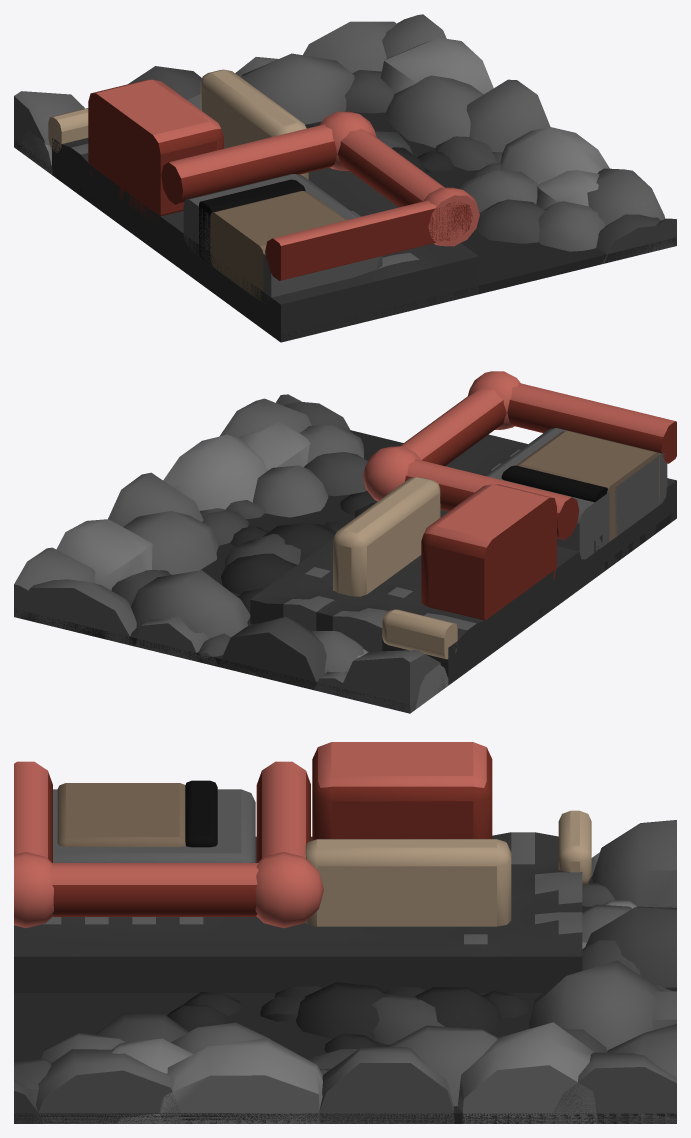
File: red_works_tr.glb
3 views of the same model, one above another, from view 1: azimuth 30°, elevation 25°; view 2: azimuth 150°, elevation 25°; view 3: azimuth 270°, elevation 25° (orthographic). The views are drawn at different scales.
Parts seen in each view (by area): view 1: deck, red_mid, pipe_low, rocks_base, pipe_mid, recess_floor, rocks_12, tan_rod, rocks_5, pipe_right, recess_frame, rocks_0 (+20 smaller); view 2: deck, red_mid, tan_rod, pipe_low, recess_frame, rocks_71, rocks_12, rocks_0, rocks_base, recess_floor, rocks_52, rocks_32 (+27 smaller); view 3: deck, red_mid, tan_rod, rocks_base, rocks_0, pipe_right, rocks_10, rocks_31, rocks_35, recess_floor, rocks_12, rocks_16 (+29 smaller).
Part boxes in pixels (x1=…): deck: x1=52, y1=94, x2=478, y2=342; red_mid: x1=88, y1=79, x2=223, y2=219; pipe_low: x1=265, y1=200, x2=460, y2=280; rocks_base: x1=14, y1=111, x2=676, y2=340; pipe_mid: x1=161, y1=124, x2=336, y2=204; recess_floor: x1=210, y1=191, x2=346, y2=300; rocks_12: x1=241, y1=53, x2=354, y2=124; tan_rod: x1=200, y1=69, x2=308, y2=179; rocks_5: x1=386, y1=75, x2=483, y2=148; pipe_right: x1=337, y1=128, x2=472, y2=240; recess_frame: x1=183, y1=174, x2=382, y2=302; rocks_0: x1=500, y1=127, x2=609, y2=184; deck: x1=250, y1=434, x2=676, y2=685; red_mid: x1=421, y1=484, x2=556, y2=620; tan_rod: x1=333, y1=477, x2=440, y2=596; pipe_low: x1=507, y1=383, x2=676, y2=463; recess_frame: x1=485, y1=428, x2=667, y2=559; rocks_71: x1=218, y1=617, x2=326, y2=690; rocks_12: x1=131, y1=570, x2=250, y2=638; rocks_0: x1=163, y1=434, x2=267, y2=510; rocks_base: x1=14, y1=430, x2=676, y2=713; recess_floor: x1=516, y1=431, x2=659, y2=541; rocks_52: x1=14, y1=579, x2=136, y2=646; rocks_32: x1=337, y1=650, x2=444, y2=713; deck: x1=14, y1=832, x2=582, y2=992; red_mid: x1=312, y1=742, x2=492, y2=840; tan_rod: x1=305, y1=839, x2=511, y2=926; rocks_base: x1=14, y1=877, x2=676, y2=1123; rocks_0: x1=158, y1=1038, x2=322, y2=1123; pipe_right: x1=51, y1=863, x2=258, y2=916; rocks_10: x1=457, y1=1022, x2=597, y2=1123; rocks_31: x1=317, y1=1047, x2=454, y2=1123; rocks_35: x1=33, y1=1049, x2=183, y2=1123; recess_floor: x1=57, y1=783, x2=185, y2=846; rocks_12: x1=529, y1=960, x2=660, y2=1050; rocks_16: x1=548, y1=1052, x2=676, y2=1123.
Size of the model in its own units: 24 by 6.6 by 28.
